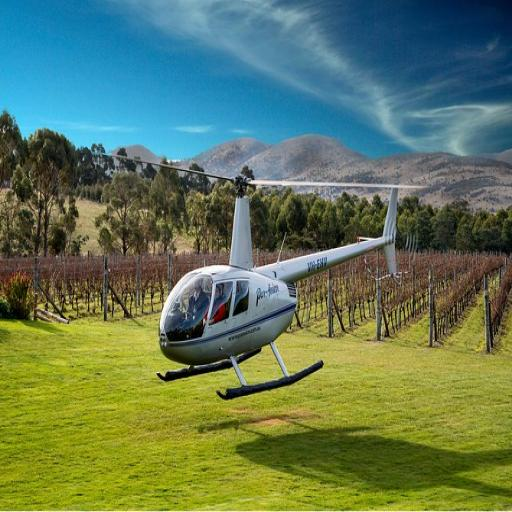helicopter: (92, 139, 427, 419)
